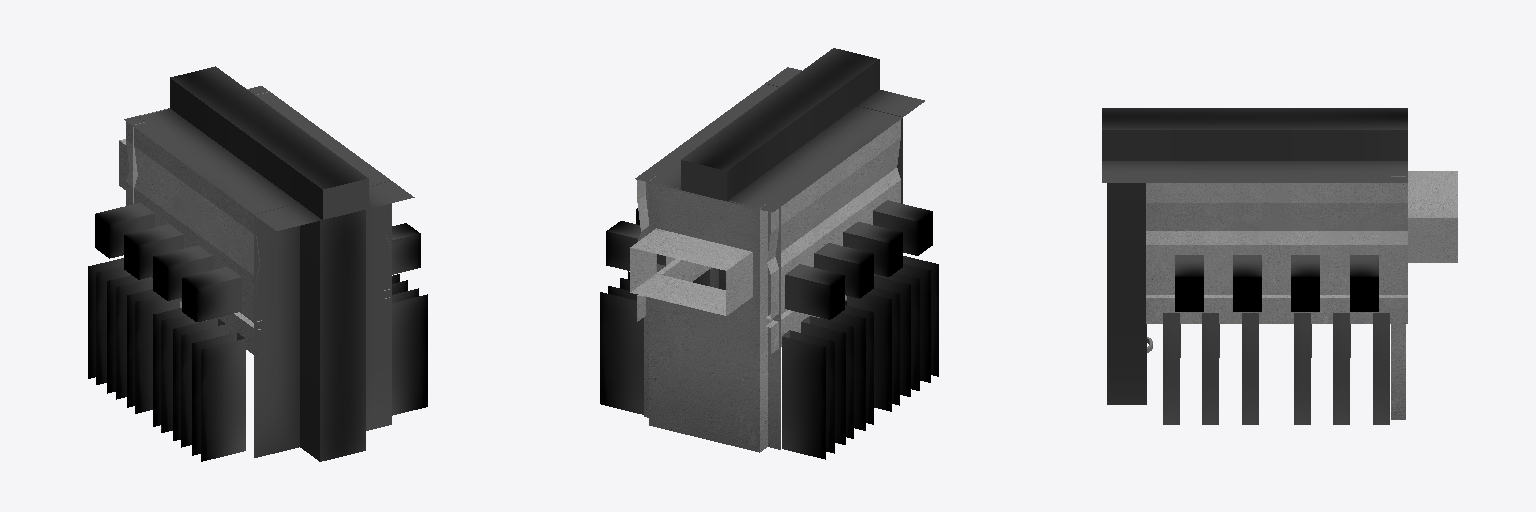
The picture shows the model from 3 angles: view 1: azimuth 30°, elevation 25°; view 2: azimuth 150°, elevation 25°; view 3: azimuth 270°, elevation 25°; orthographic projection.
Visible parts, largest first — view 1: Cube; view 2: Cube; view 3: Cube.
Boxes of the visible parts, x1,y1,x2,y2 form: Cube: [88, 66, 427, 461]; Cube: [600, 48, 938, 459]; Cube: [1102, 108, 1457, 424].
Size of the model in its own units: 200 by 231 by 272.
1 materials, 1 textured.